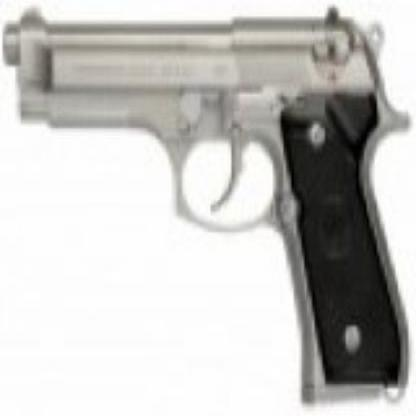pistol: (0, 0, 403, 391)
